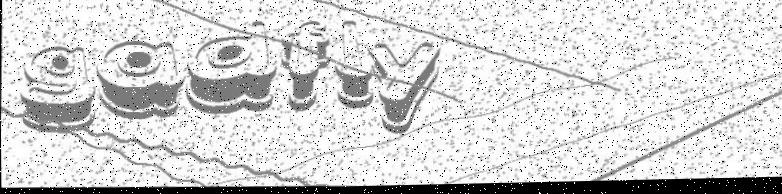a: (96, 39, 182, 120)
d: (186, 21, 278, 116)
f: (280, 21, 330, 113)
g: (21, 45, 95, 132)
l: (334, 22, 373, 110)
y: (366, 43, 439, 136)
